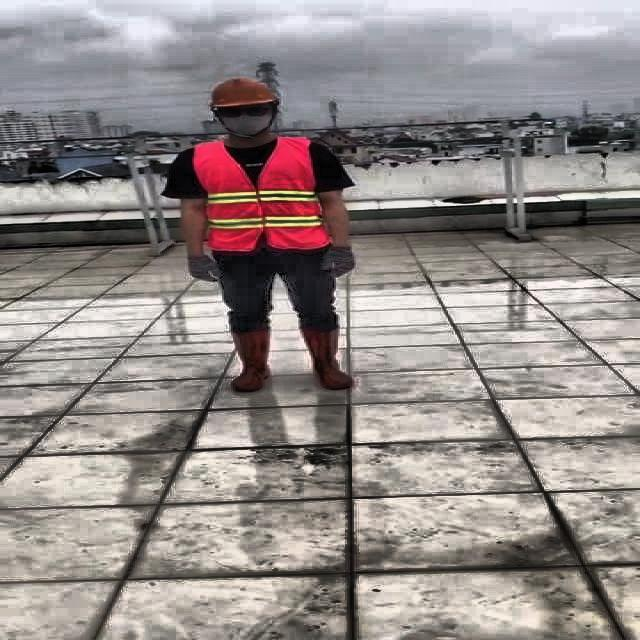safety_helmet: (205, 77, 279, 109)
safety_jacket: (192, 138, 330, 251)
